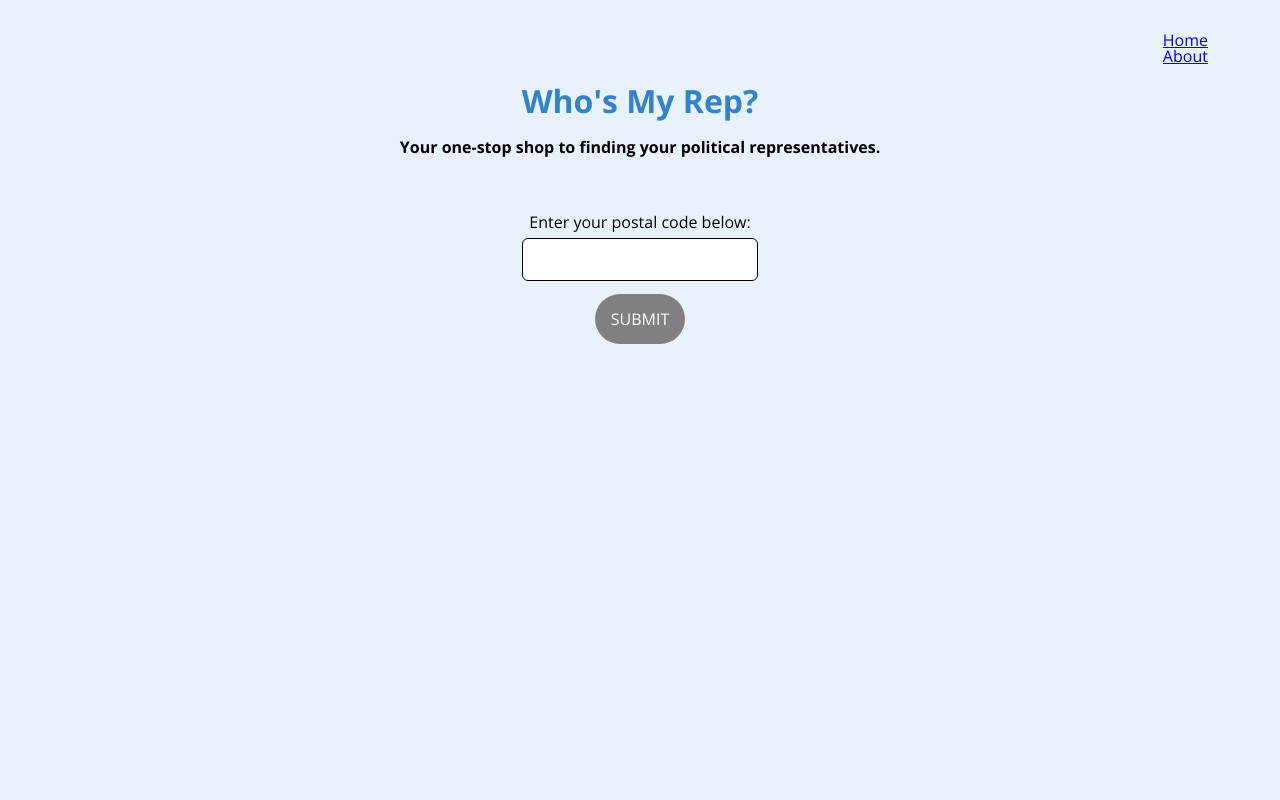
Scenario: can navigate to about page
Click the link with test id "about-link" at coordinates (1185, 56), box [1163,45,1208,67]
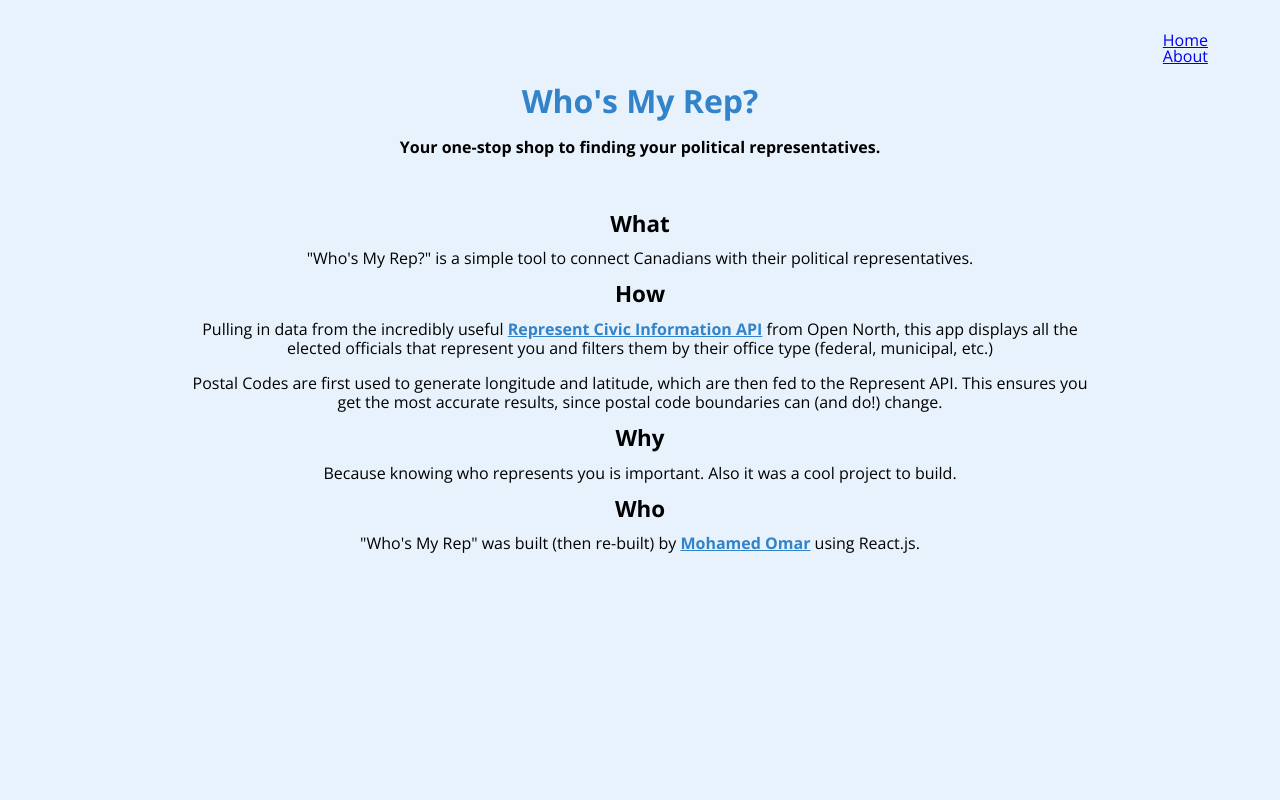
Check: the element with test id "about-container" is shown, box [186,214,1094,768]
